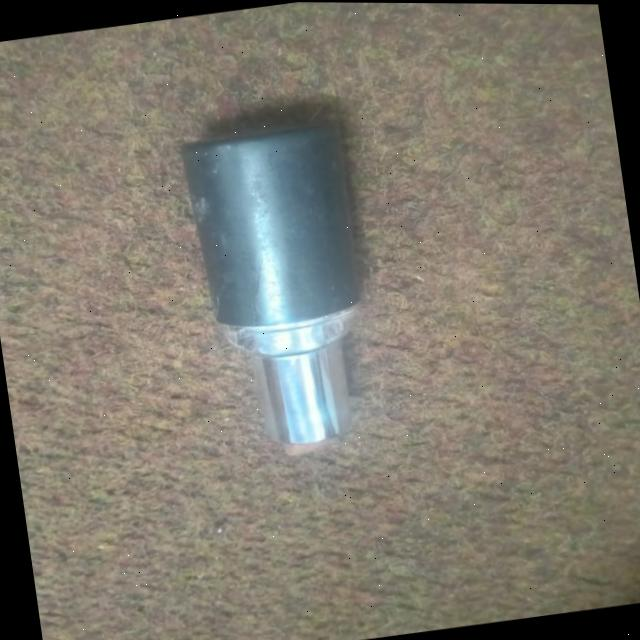lip stick: (79, 60, 436, 497)
